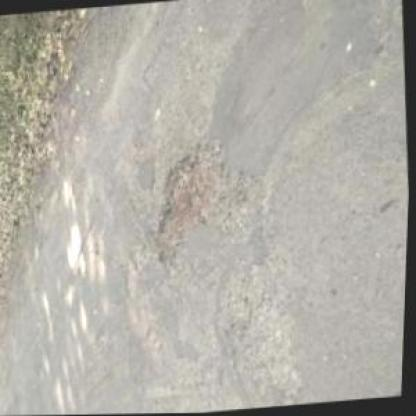pothole: (147, 141, 237, 268)
